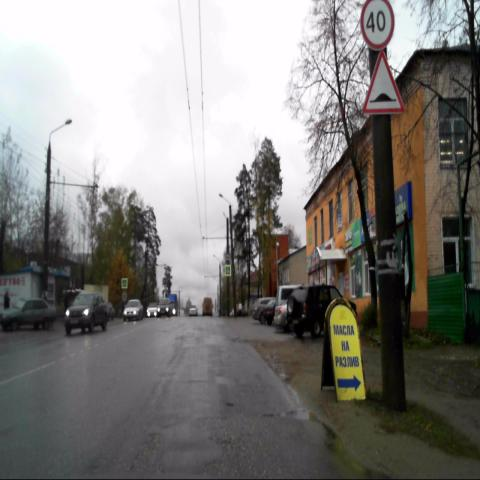1_17: (363, 50, 405, 117)
